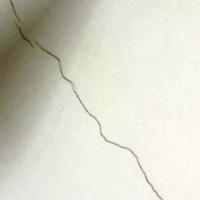crack: (11, 0, 166, 199)
